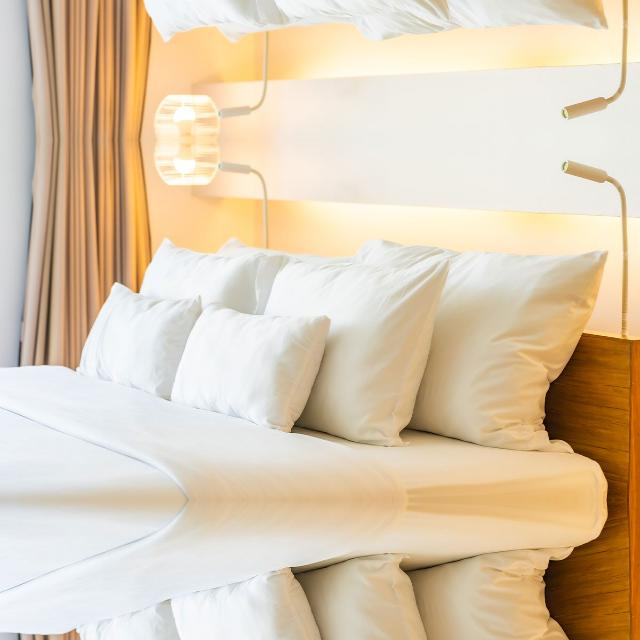pillow: (410, 250, 609, 454), (253, 252, 451, 446), (166, 307, 330, 436), (71, 281, 202, 398), (410, 546, 572, 640), (166, 564, 321, 640), (301, 554, 424, 640), (137, 240, 272, 307), (143, 0, 272, 40), (71, 602, 180, 640)
